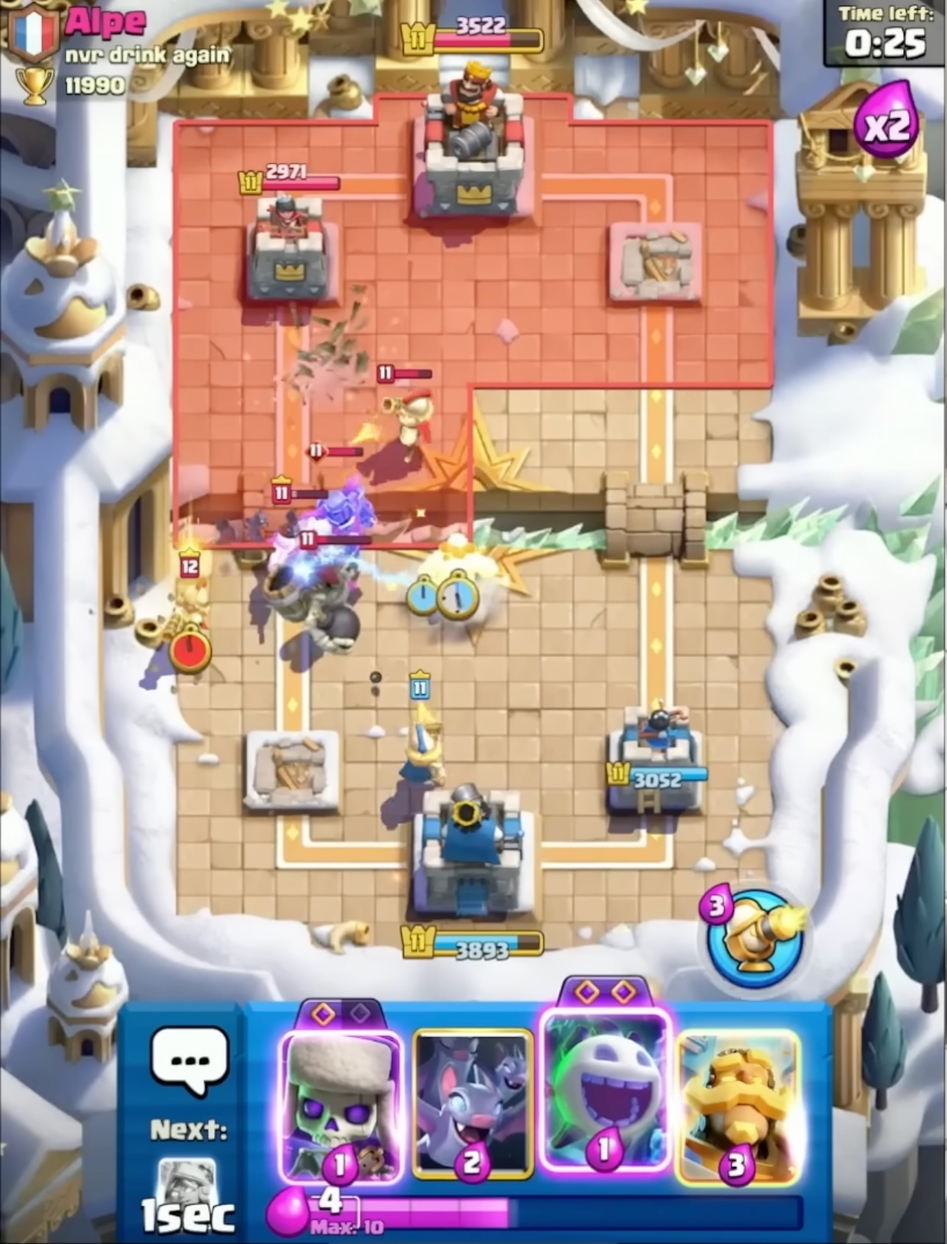hero-musketeer: (370, 358, 445, 470), (165, 536, 216, 675)
skeleton-giant: (270, 529, 375, 664)
